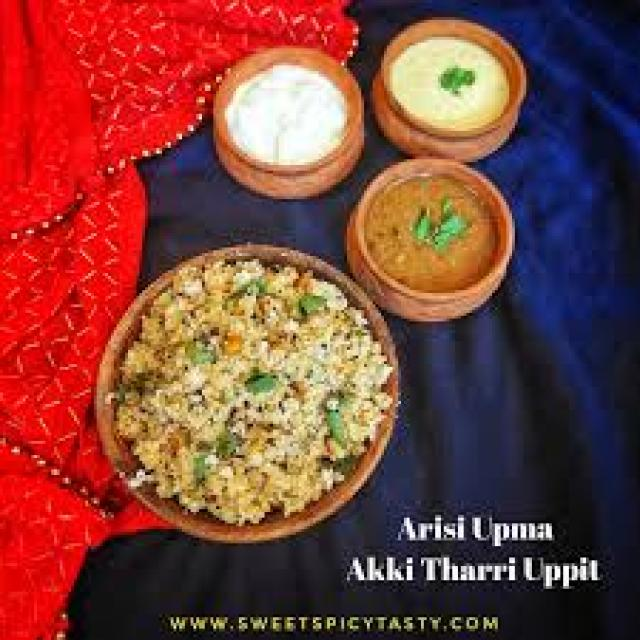UPMA: (108, 262, 390, 518)
